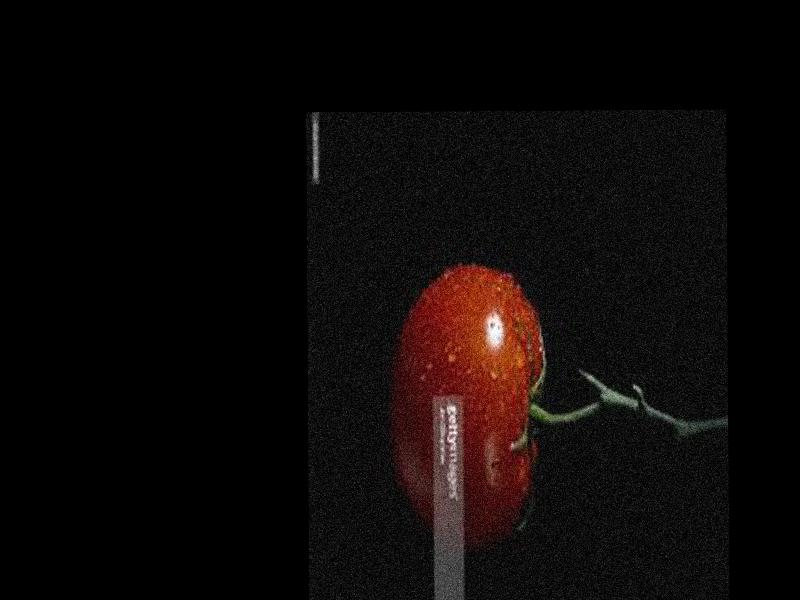Tomato: (394, 265, 542, 539)
